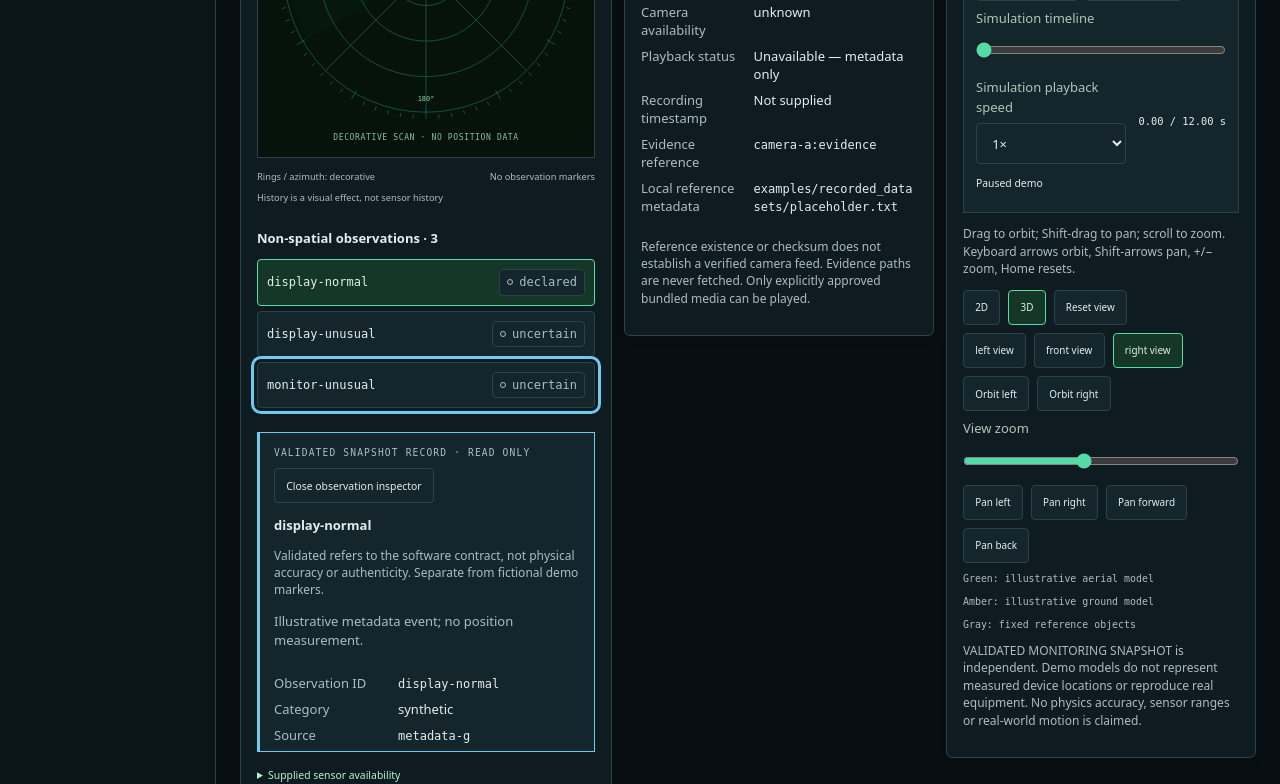
Test: opens from a radar observation, focuses the inspector and returns focus on close
(page scrolled)
Press Enter
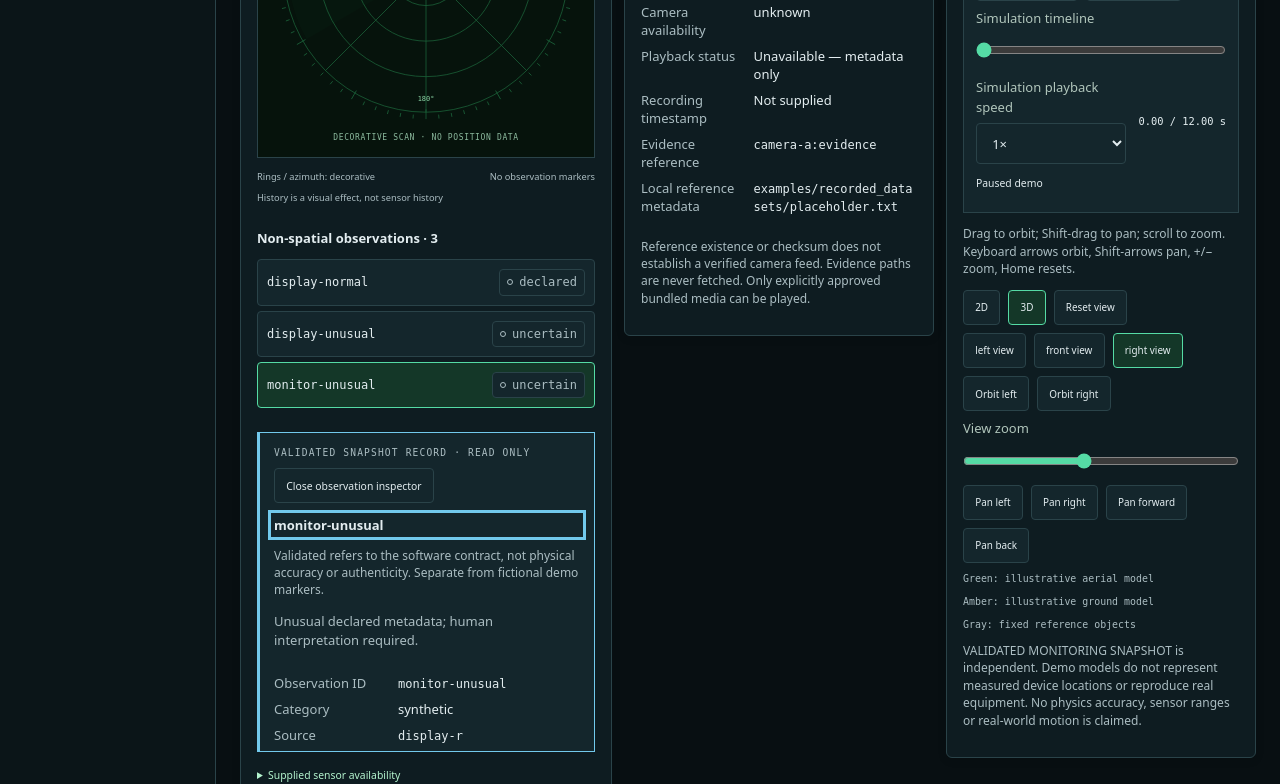
Click the button "Close observation inspector" at (354, 486), box left=274, top=468, right=434, bottom=503
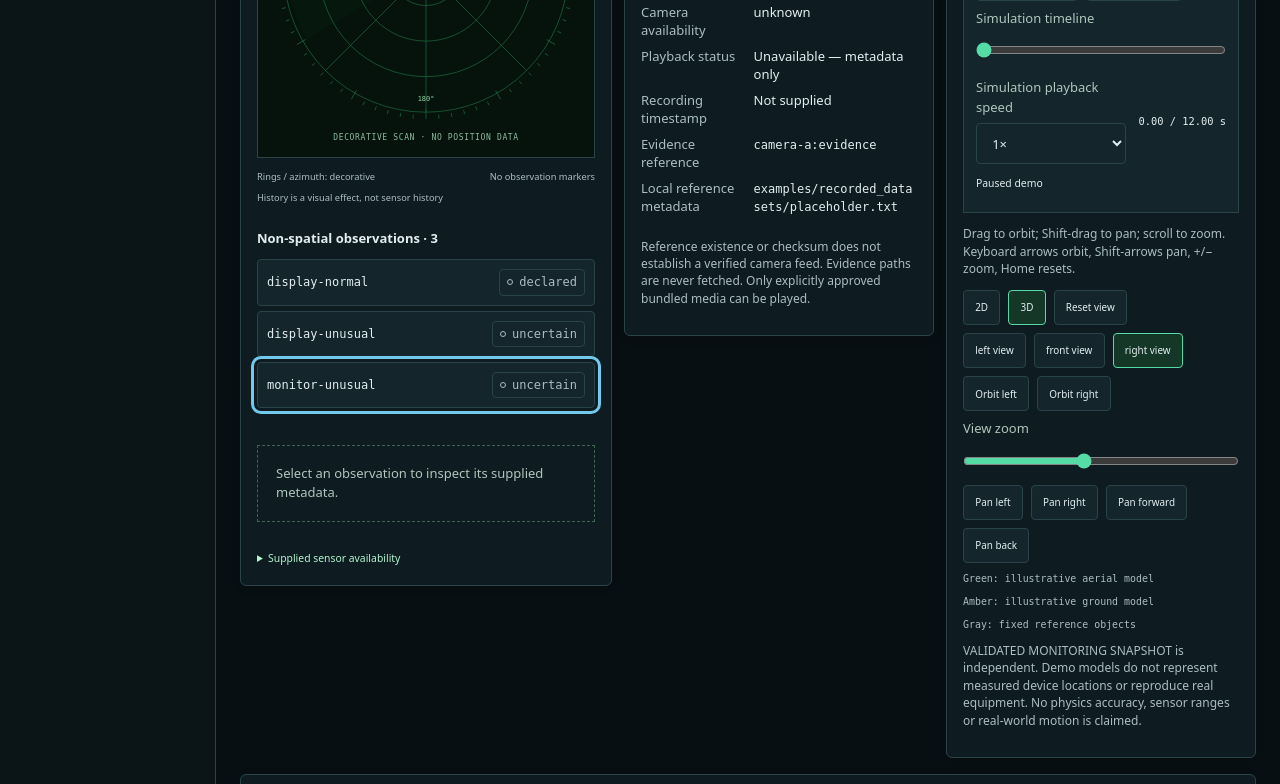
Press Enter
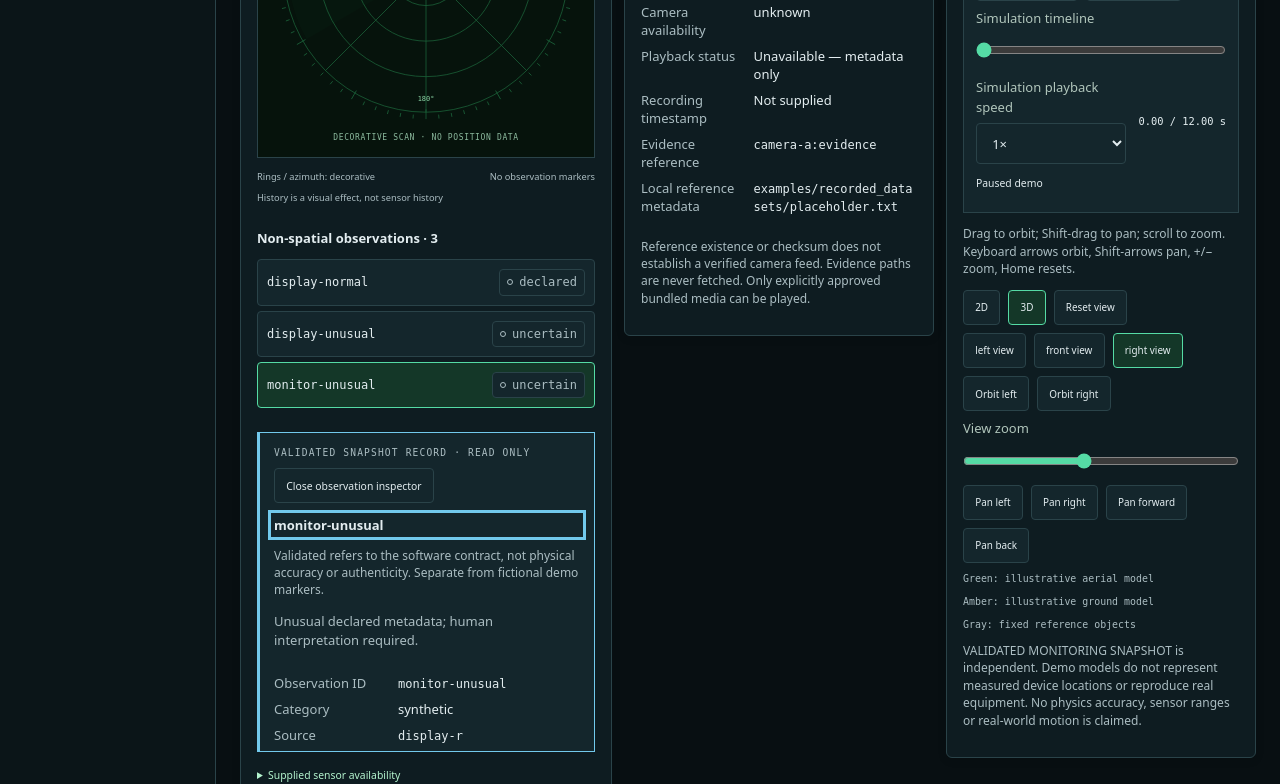
Check: the element named "Validated observation inspector" is shown, box left=257, top=432, right=595, bottom=752
